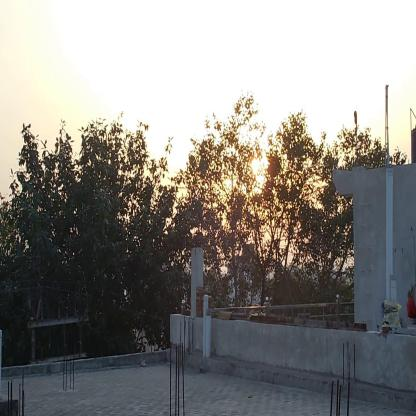other: (250, 150, 275, 198)
